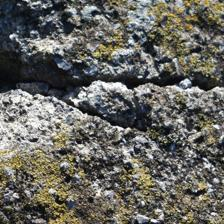Crack: (45, 86, 113, 135), (125, 172, 177, 224)
